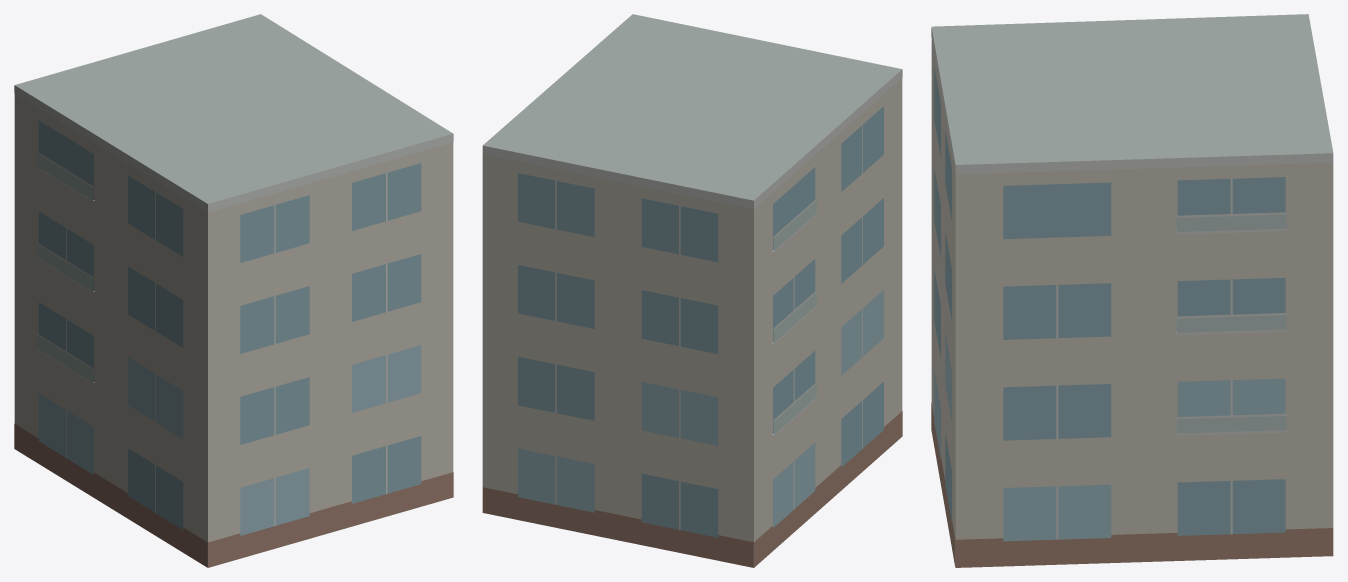
The model's file is survey-upis-32621213.glb.
3 renders of one model, left to right at view 1: azimuth 30°, elevation 25°; view 2: azimuth 150°, elevation 25°; view 3: azimuth 270°, elevation 25°, orthographic. The views are drawn at different scales.
Visible parts, largest first — view 1: survey-upis-32621213.tmp; view 2: survey-upis-32621213.tmp; view 3: survey-upis-32621213.tmp.
Part boxes in pixels (bbox=[...]): survey-upis-32621213.tmp: bbox=[14, 14, 453, 567]; survey-upis-32621213.tmp: bbox=[482, 14, 902, 567]; survey-upis-32621213.tmp: bbox=[931, 14, 1333, 567].
Bounding box in the file's own units: 8.53 × 10.6 × 9.6.
